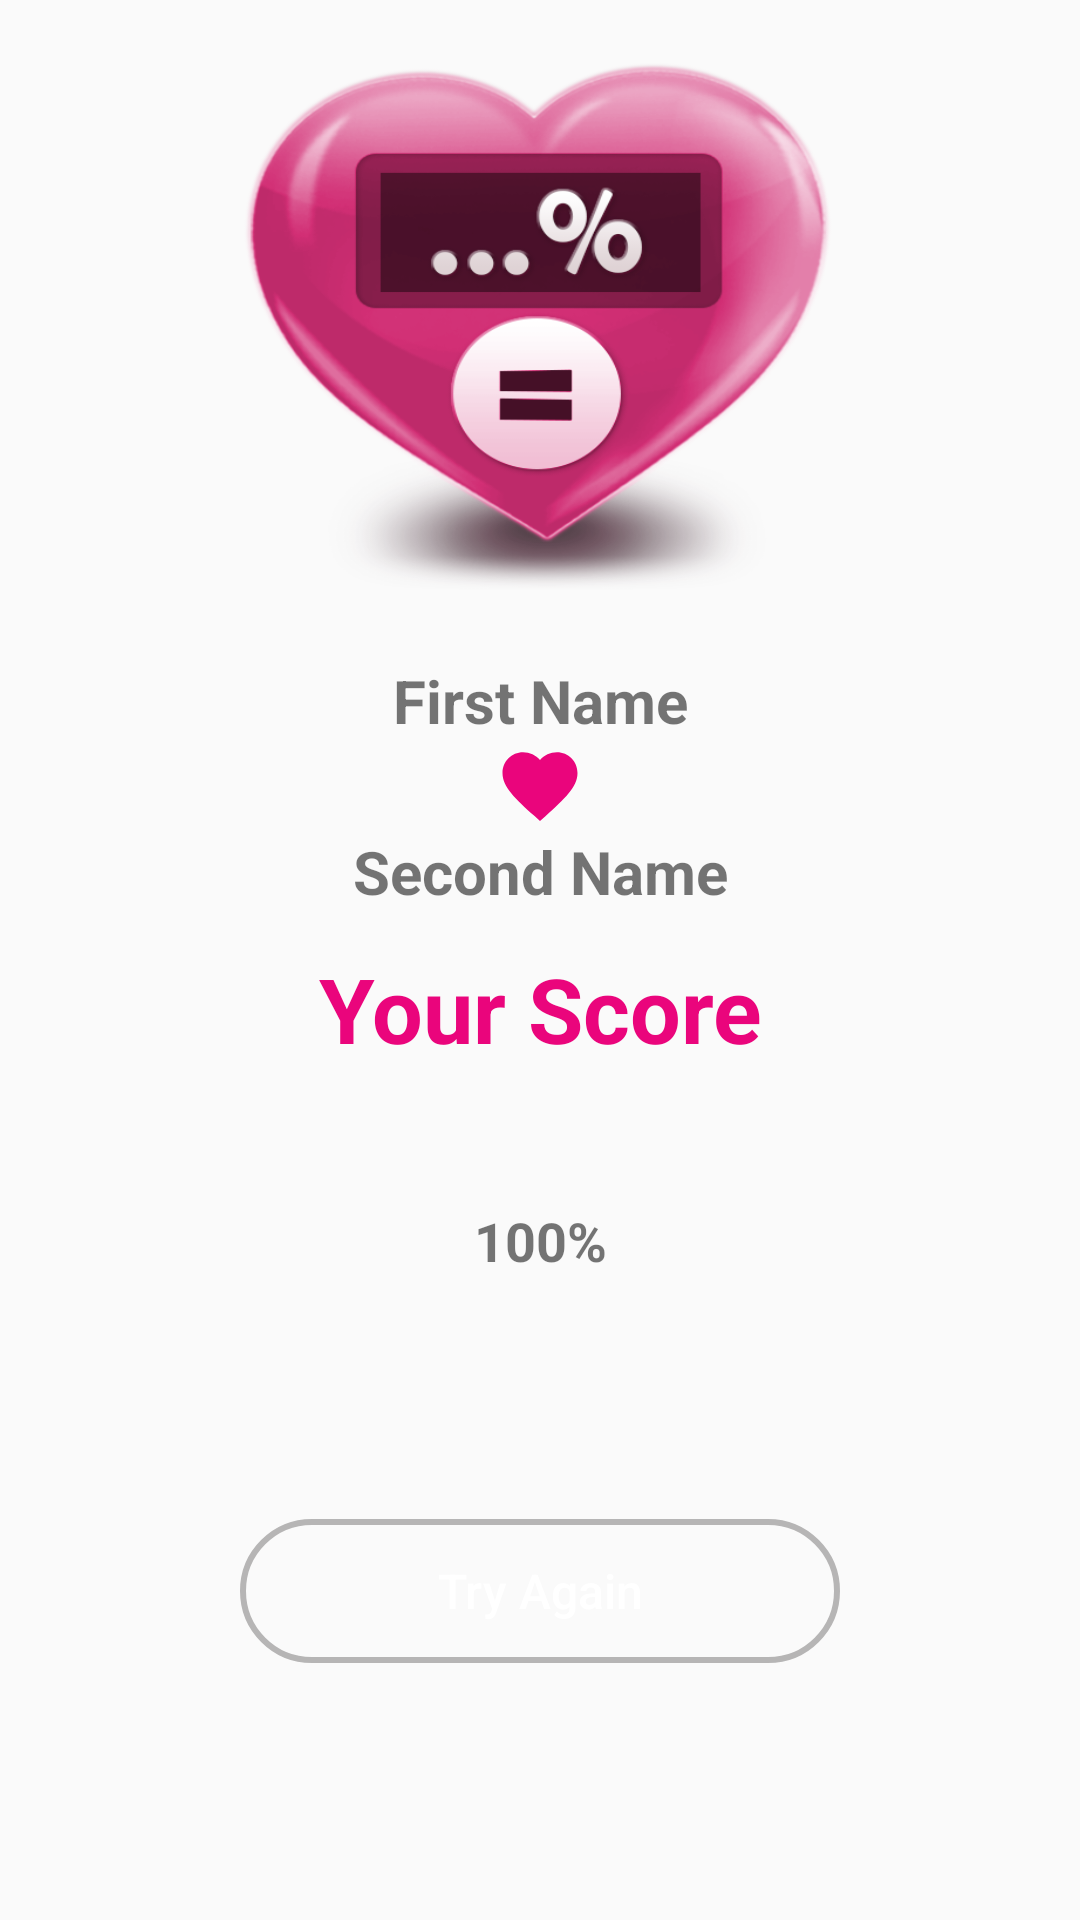

Icons on this 1080*1920 Android screen, each with its box as bbox(x1, y1, x2, y2):
favorite: bbox(502, 752, 578, 821)
